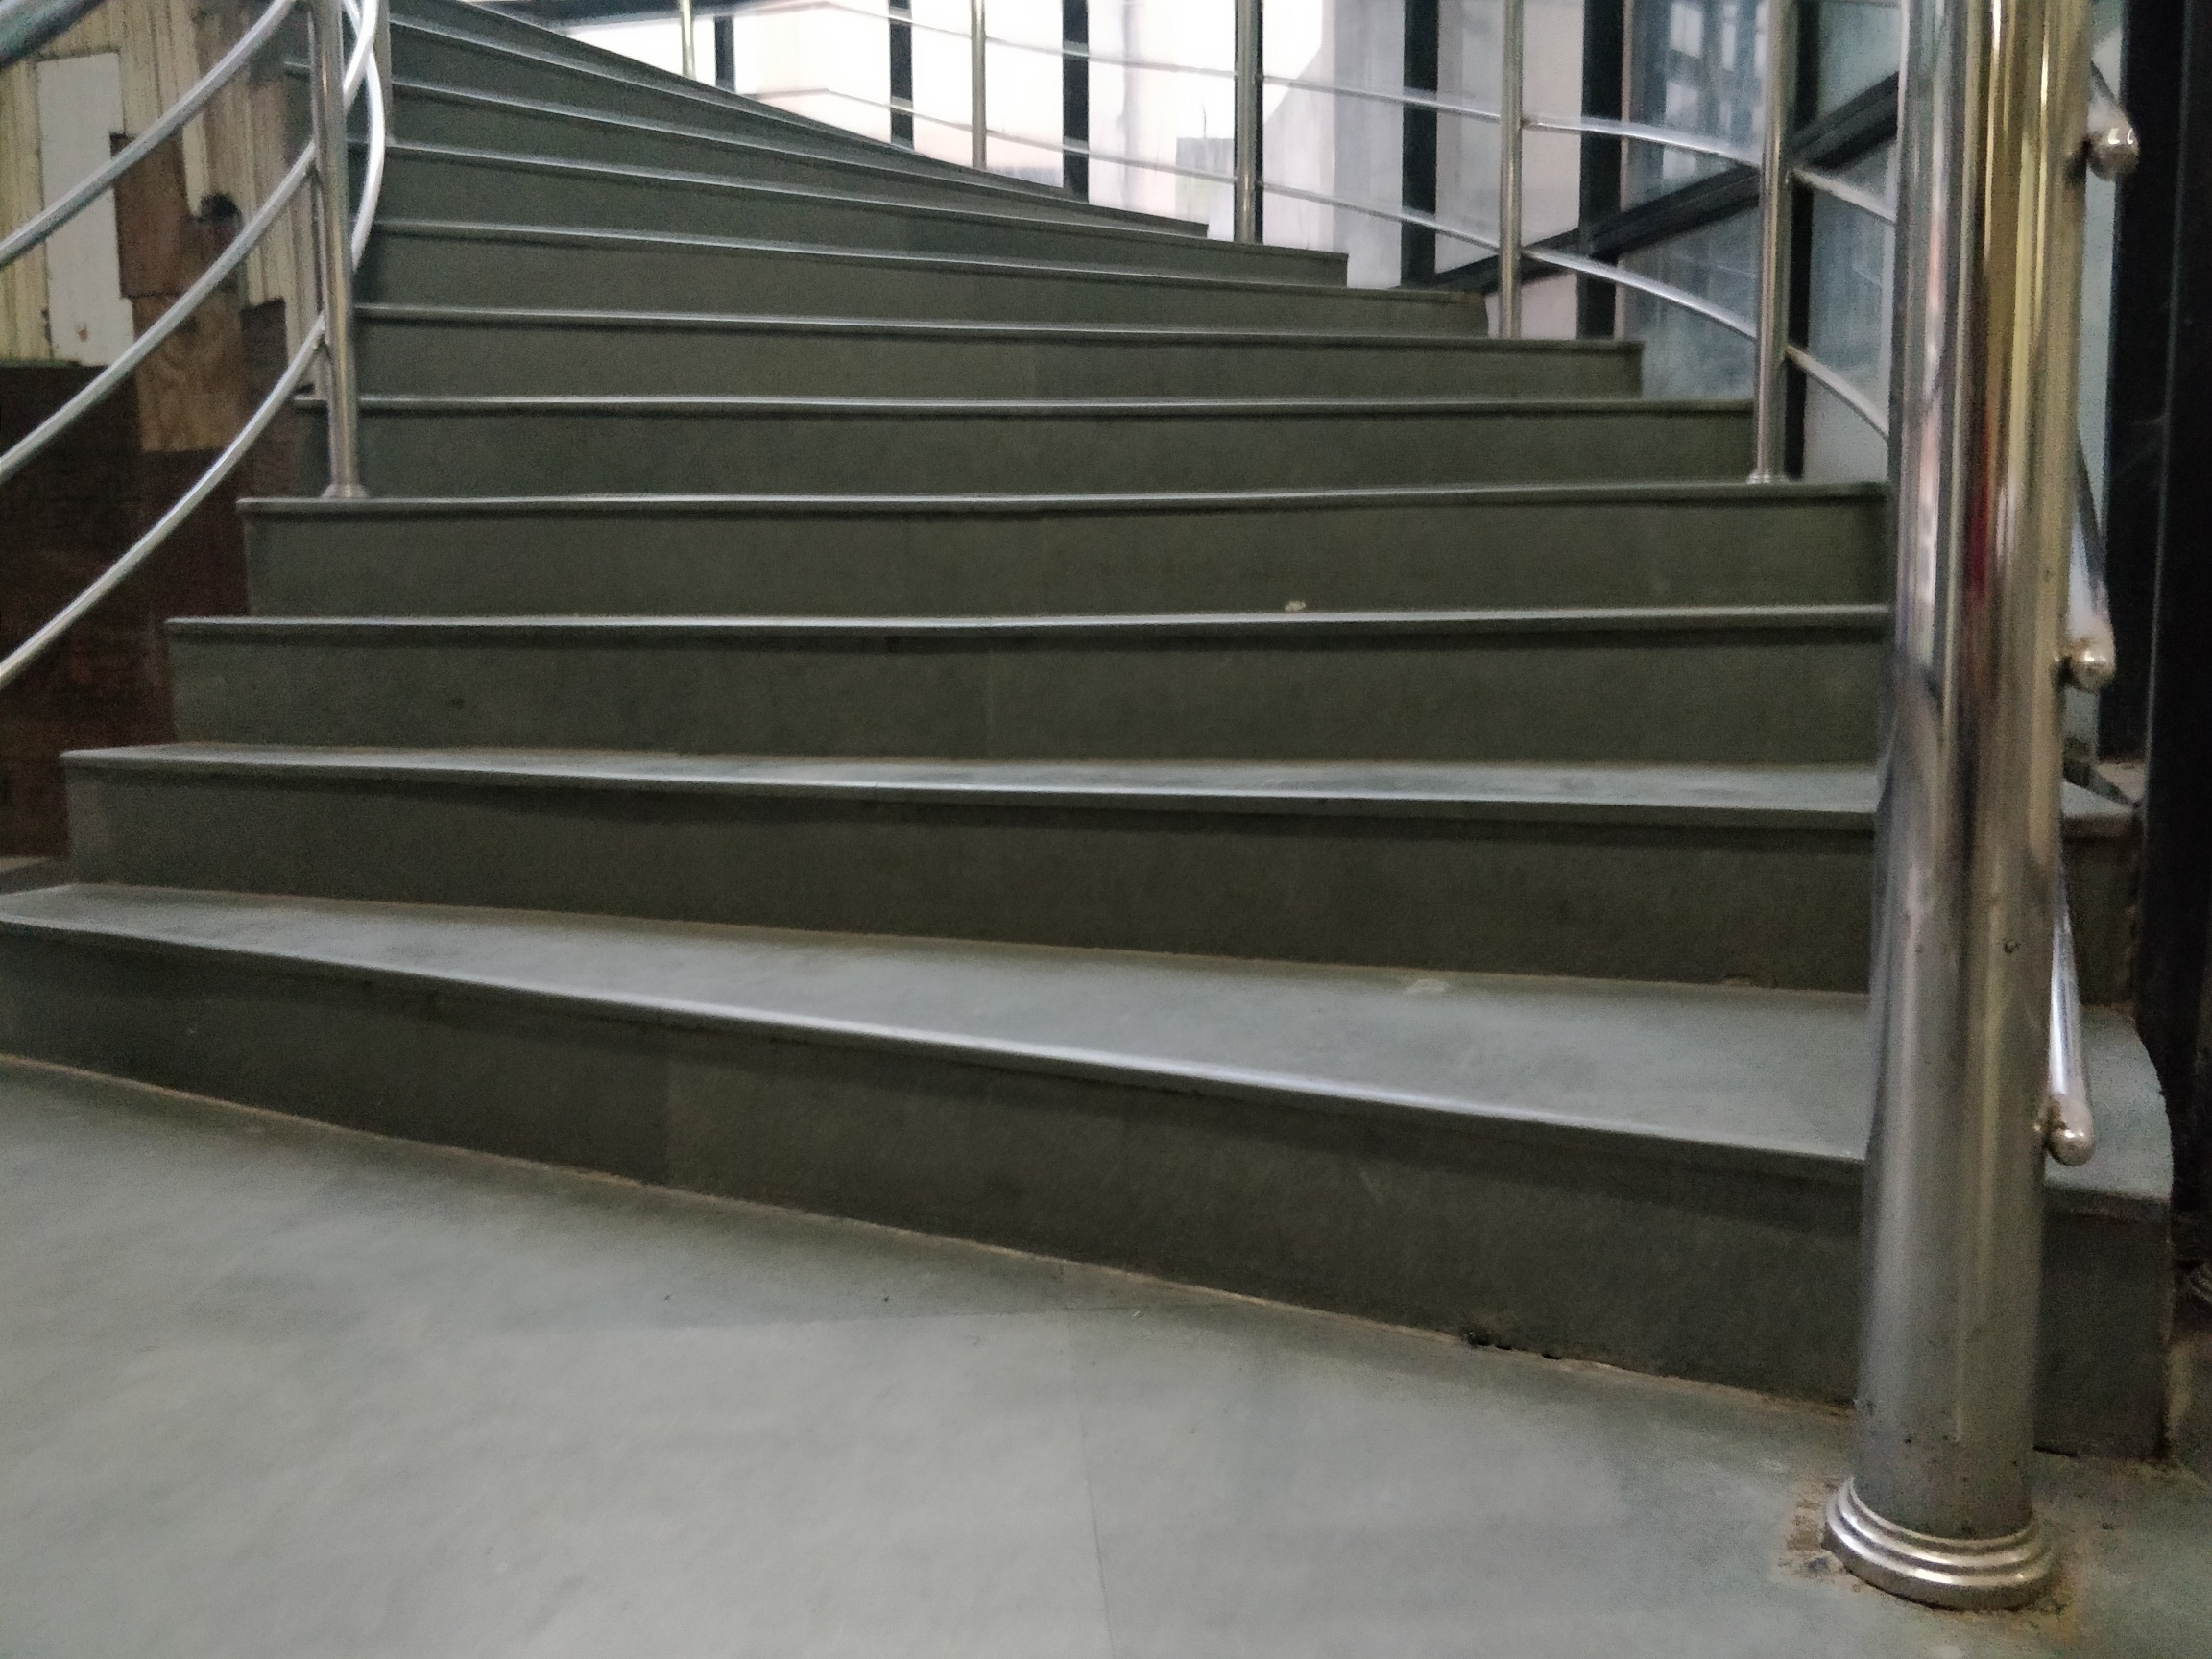stairs_up: (298, 183, 1857, 1378)
